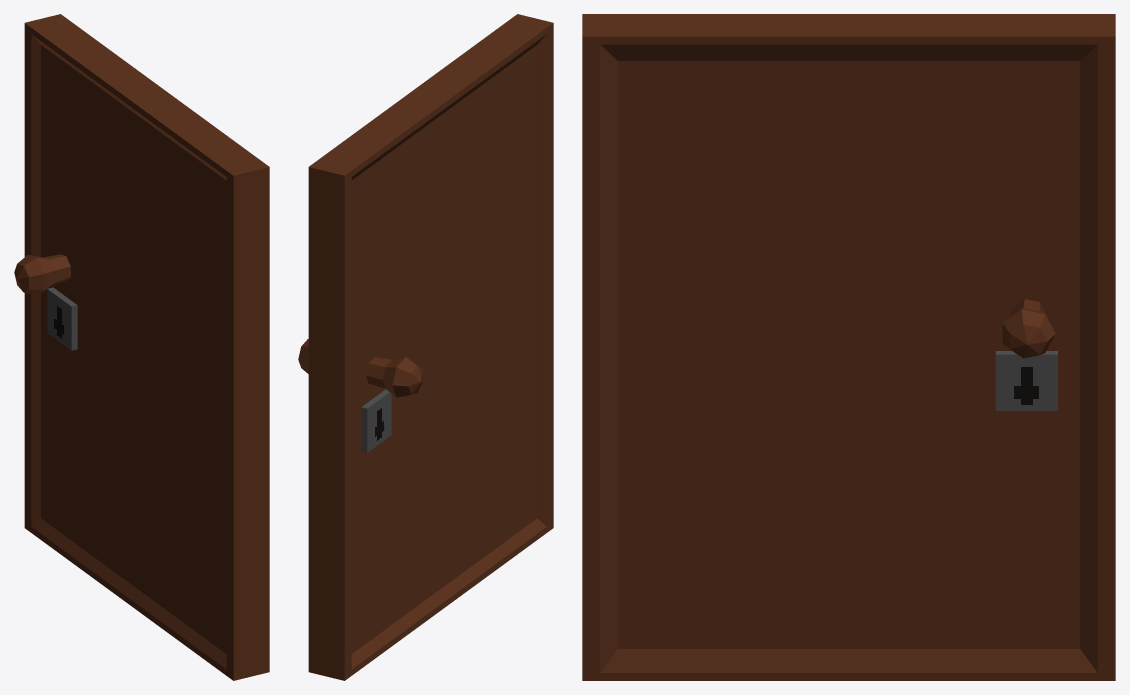
File: Door.fbx
The picture shows the model from 3 angles, left to right: view 1: azimuth 30°, elevation 25°; view 2: azimuth 150°, elevation 25°; view 3: azimuth 270°, elevation 25°; orthographic projection. The views are drawn at different scales.
Visible parts, largest first — view 1: cuboid, sphere_1, cuboid_1; view 2: cuboid, sphere_1, cuboid_1; view 3: cuboid, cuboid_1, sphere.
Boxes of the visible parts, x1,y1,x2,y2 form: cuboid: (24, 14, 269, 680); sphere_1: (14, 254, 70, 295); cuboid_1: (47, 287, 77, 350); cuboid: (308, 14, 553, 680); sphere_1: (366, 357, 422, 397); cuboid_1: (361, 389, 391, 452); cuboid: (582, 14, 1115, 680); cuboid_1: (995, 351, 1057, 410); sphere: (1002, 299, 1055, 358).
Bounding box in the file's own units: 12.5 × 50 × 37.5.
1 material, 1 textured.
